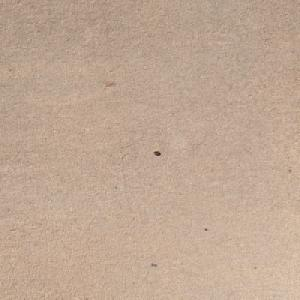Nut: (153, 150, 159, 154)
